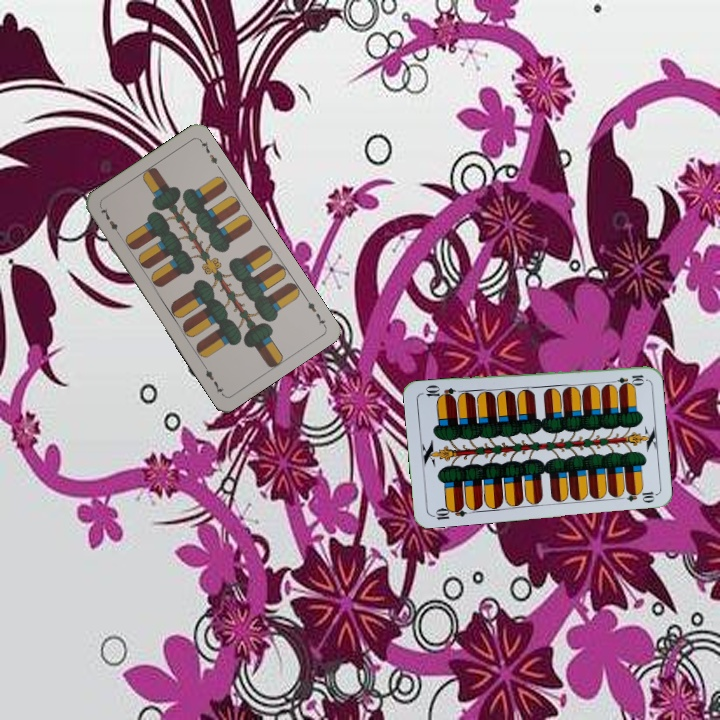E10: (428, 501, 469, 522), (606, 371, 647, 387)
E7: (96, 203, 123, 239), (301, 293, 328, 329)
